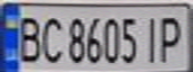0: (103, 14, 124, 65)
5: (118, 12, 142, 64)
6: (84, 14, 106, 65)
8: (63, 12, 87, 64)
B: (12, 12, 45, 63)
C: (36, 12, 66, 64)
I: (139, 11, 163, 64)
P: (154, 11, 190, 64)
